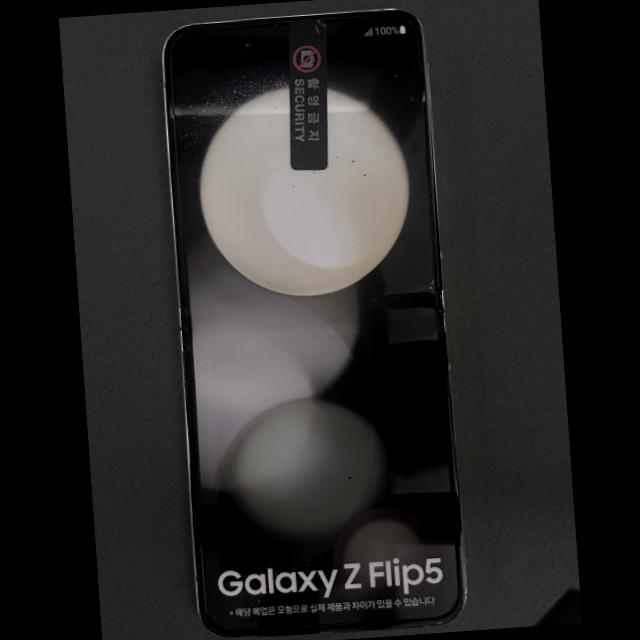phone: (159, 8, 469, 637)
sticker: (287, 19, 328, 169)
